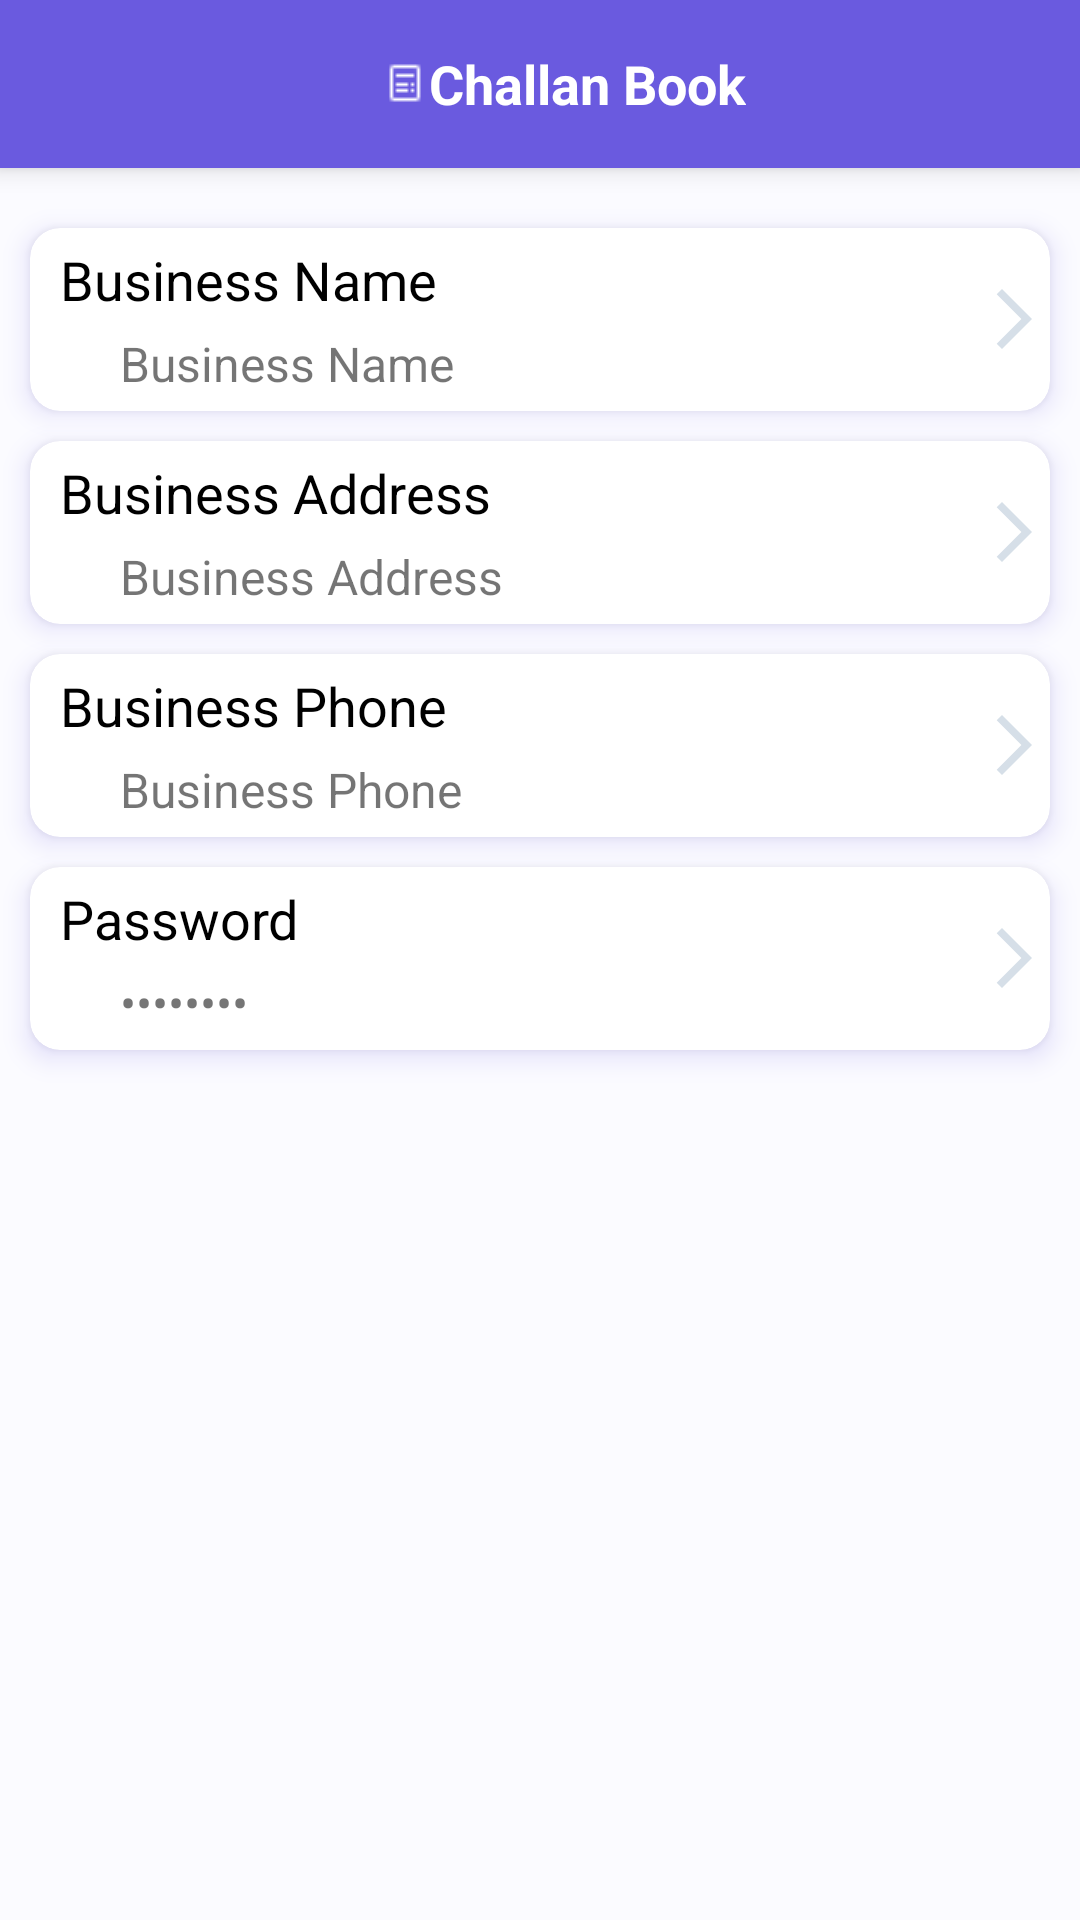

Locate icon controls on the screen. Image size 1080*1920, boxes as rect(x1, y1, x2, y2).
arrow forward: rect(997, 290, 1031, 348), rect(997, 503, 1031, 561), rect(997, 716, 1031, 774), rect(997, 929, 1031, 987)
